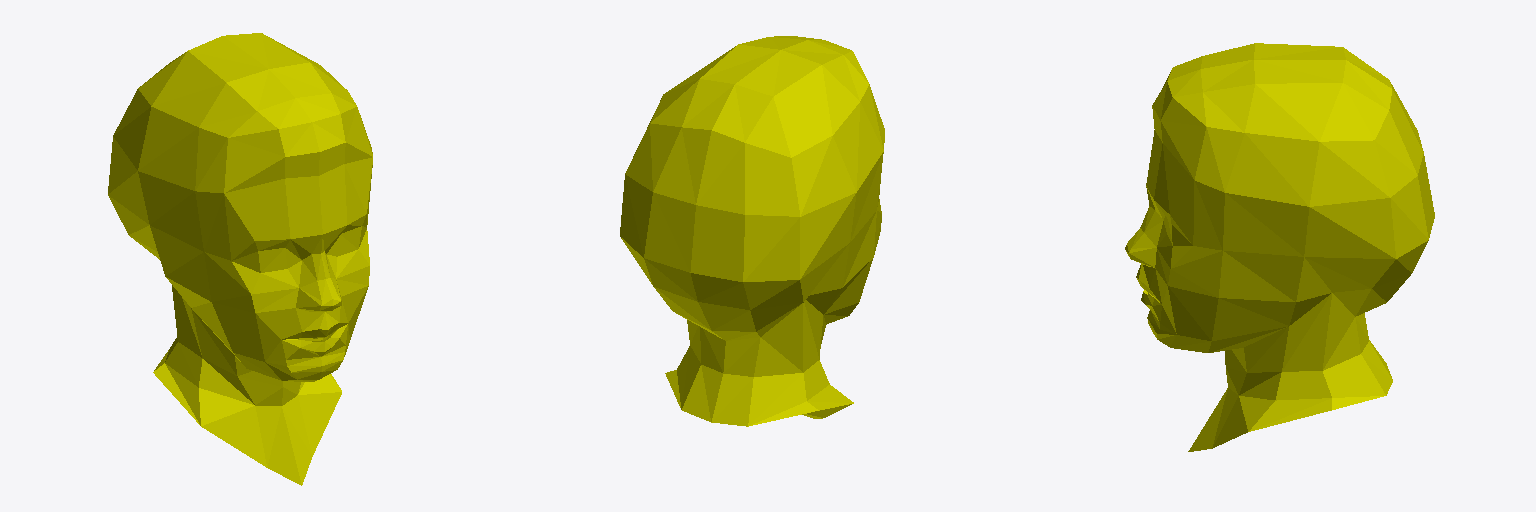
Rendered from head.obj.
3 views of the same model, side by side, from view 1: azimuth 30°, elevation 25°; view 2: azimuth 150°, elevation 25°; view 3: azimuth 270°, elevation 25° (orthographic).
Visible parts, largest first — view 1: head; view 2: head; view 3: head.
Part boxes in pixels (x1,y1,x2,y2): head: (108, 33, 372, 485); head: (620, 36, 884, 426); head: (1125, 43, 1434, 451).
Size of the model in its own units: 6.55 by 11.88 by 8.51.